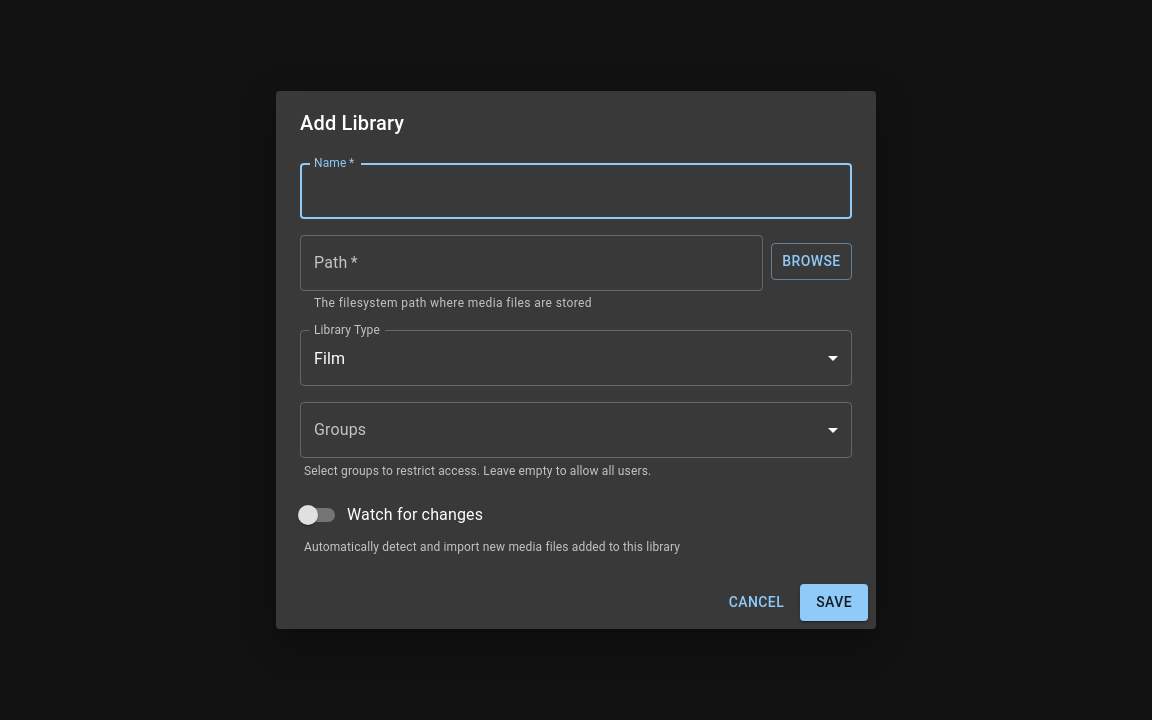
Test case: LibraryDialog › Create mode › displays API error on create failure
The width and height of the screenshot is (1152, 720).
Type "Movies" into the field labelled "Name *" at {"x": 576, "y": 191}, box [300, 163, 852, 219]
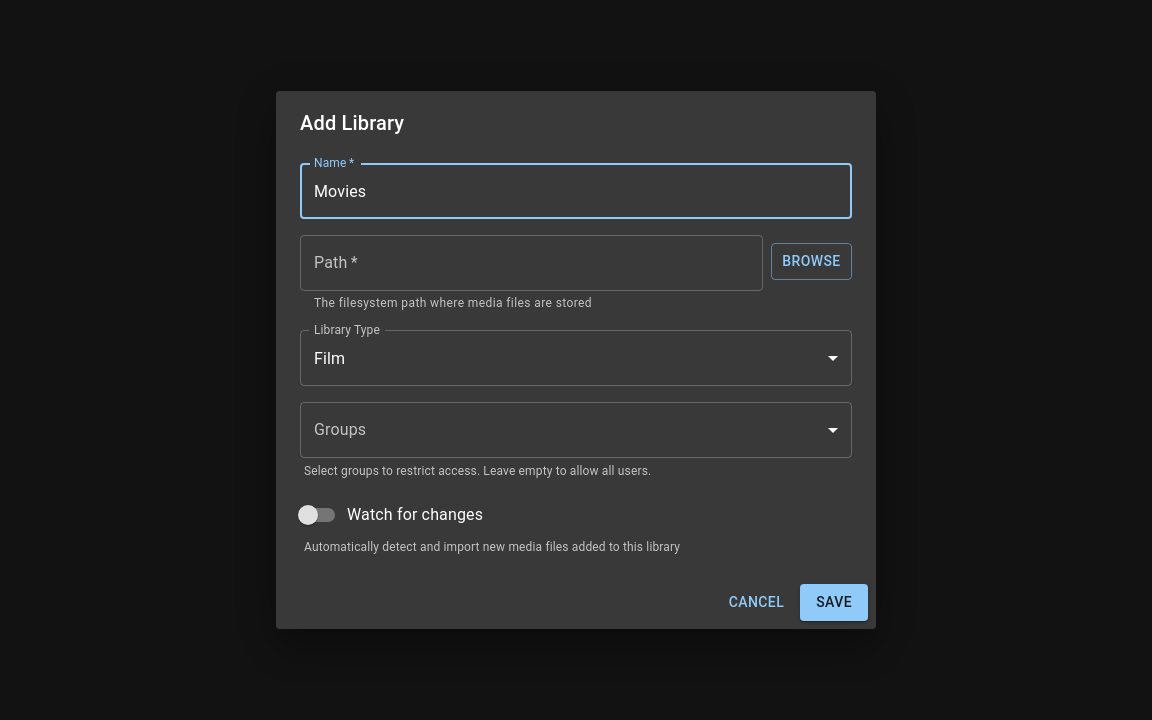
Type "/invalid/path" into the field labelled "Path *" at {"x": 532, "y": 263}, box [300, 235, 763, 291]
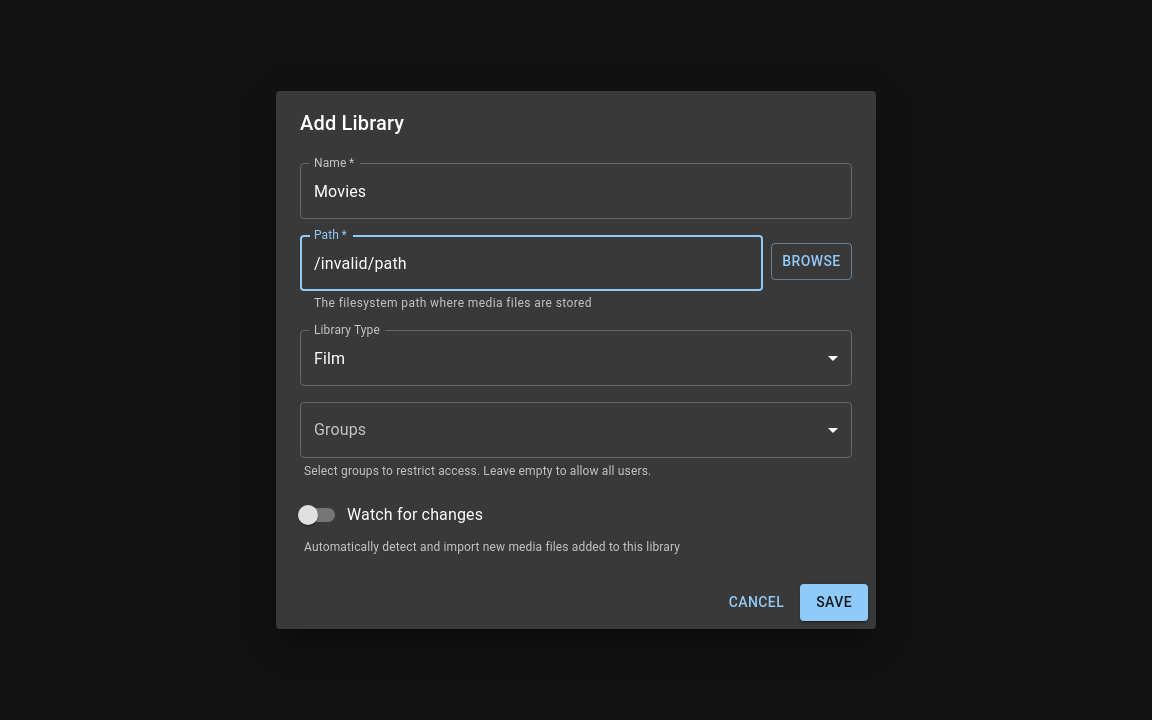
Click the button "Save" at {"x": 834, "y": 602}, box [800, 584, 868, 621]
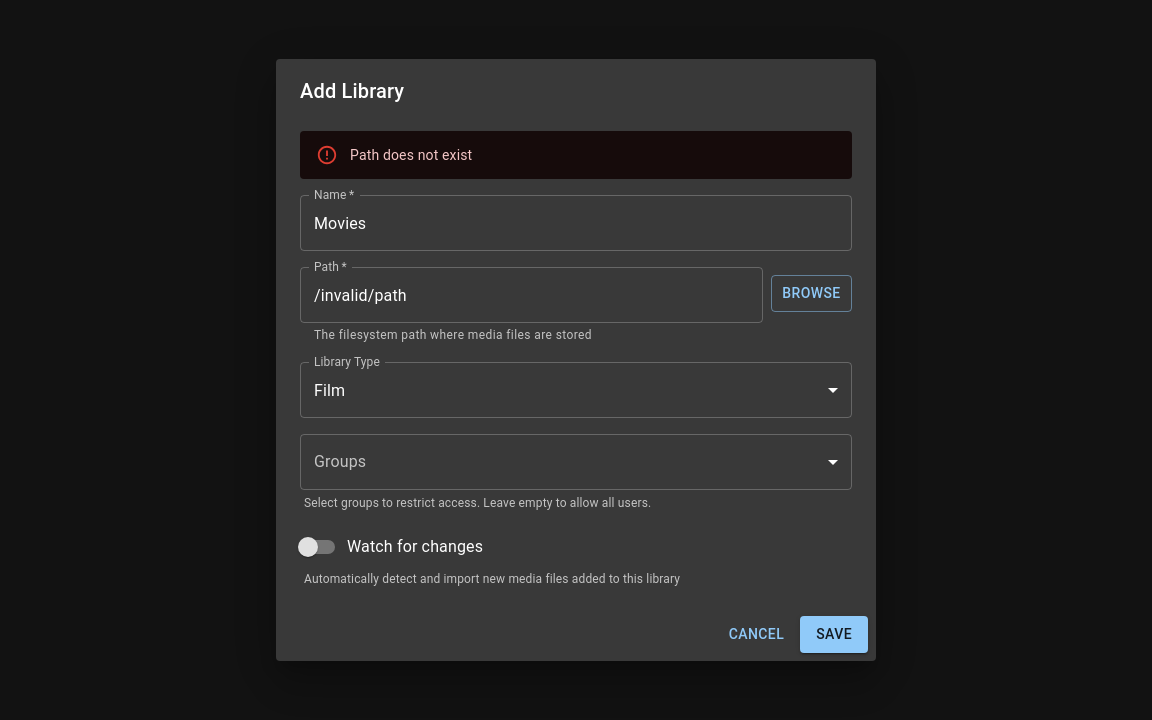
Now the text "Path does not exist" is shown, box [350, 147, 472, 163]
